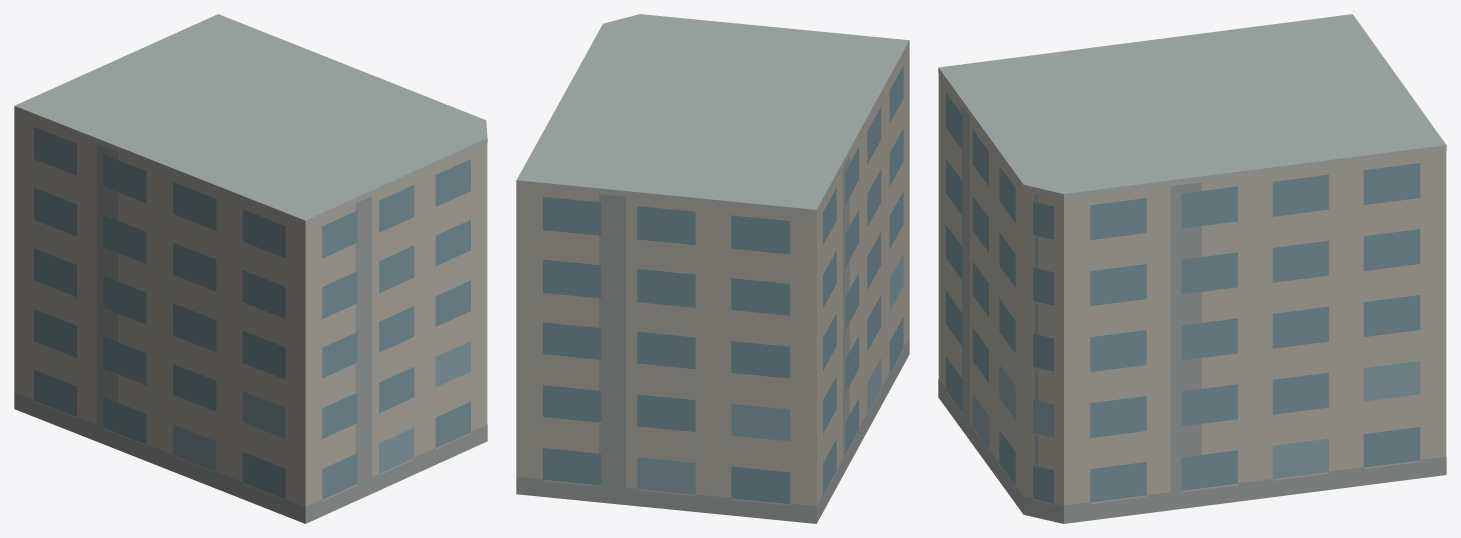
File: survey-upis-32862377.glb
3 renders of one model, left to right at view 1: azimuth 30°, elevation 25°; view 2: azimuth 150°, elevation 25°; view 3: azimuth 270°, elevation 25°, orthographic. The views are drawn at different scales.
Visible parts, largest first — view 1: survey-upis-32862377.tmp; view 2: survey-upis-32862377.tmp; view 3: survey-upis-32862377.tmp.
Boxes of the visible parts, x1,y1,x2,y2 form: survey-upis-32862377.tmp: [14, 14, 487, 523]; survey-upis-32862377.tmp: [516, 14, 909, 523]; survey-upis-32862377.tmp: [938, 14, 1446, 523].
Size of the model in its own units: 15.81 by 13.5 by 18.85.
